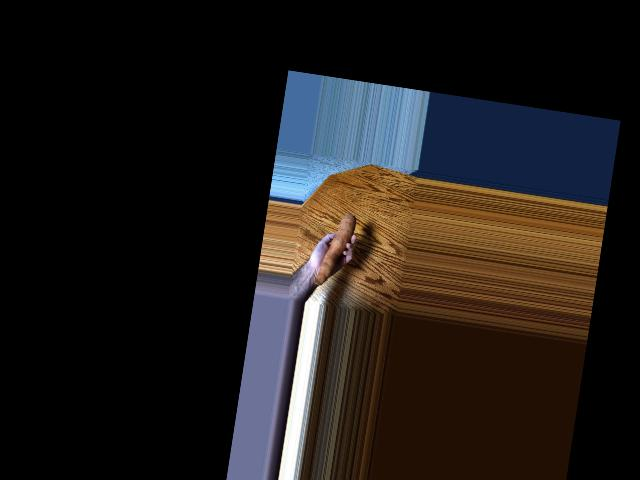sweet_potato: (319, 199, 362, 281)
